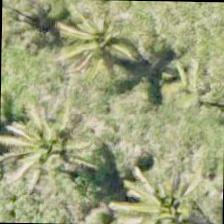Kelapa_Sawit: (2, 102, 94, 194), (69, 0, 162, 91), (137, 47, 223, 139), (126, 172, 218, 223)
